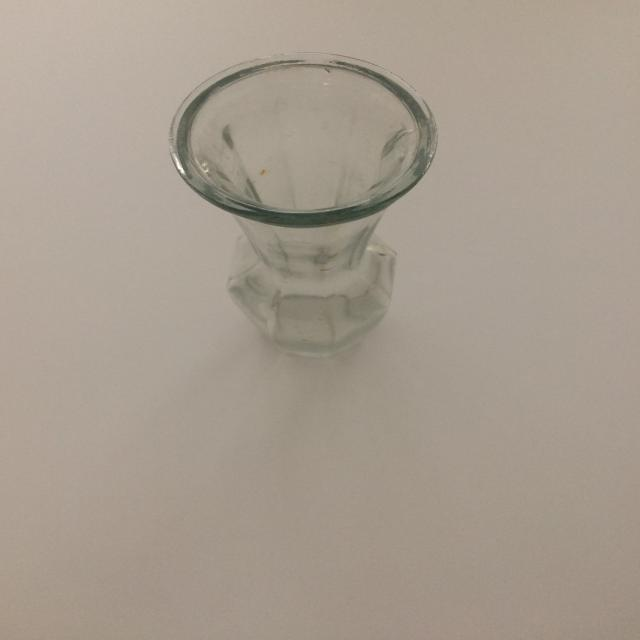glass: (168, 51, 438, 358)
